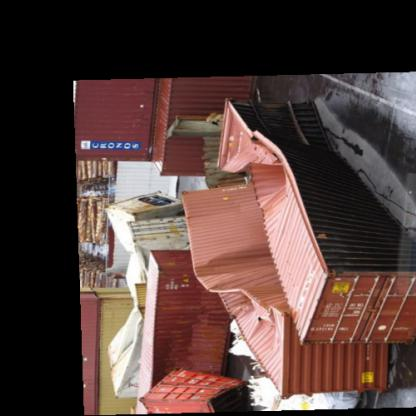Damage: (168, 250, 330, 396), (212, 104, 304, 204)
